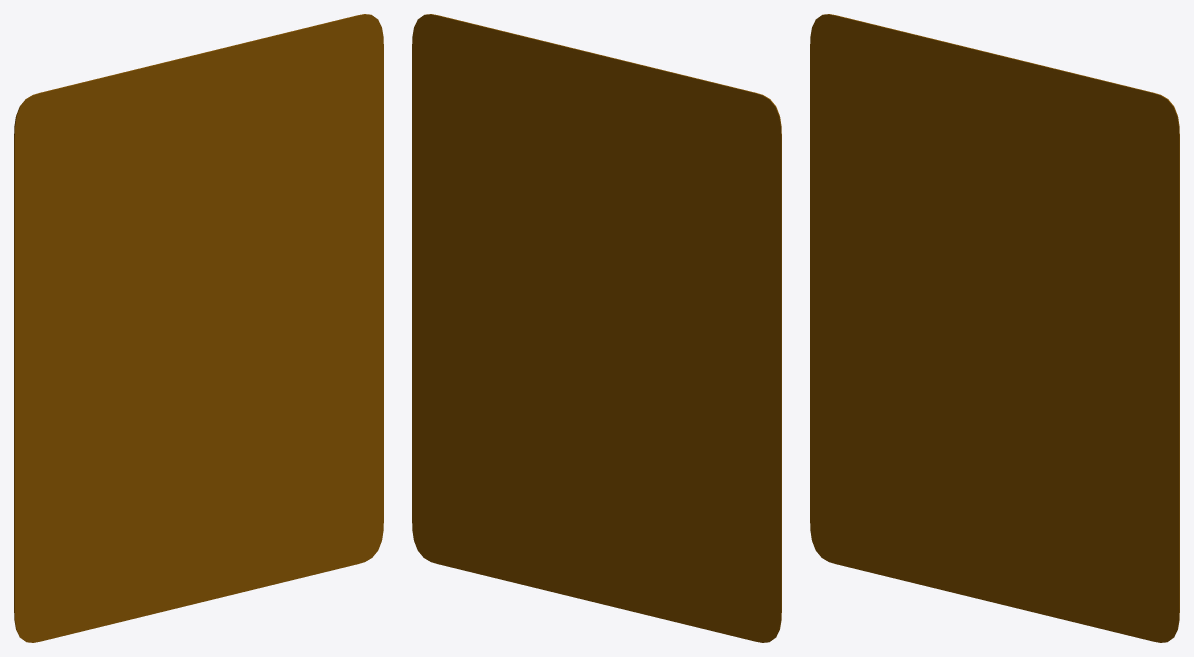
File: CartaBase.glb
3 views of the same model, side by side, from view 1: azimuth 30°, elevation 25°; view 2: azimuth 150°, elevation 25°; view 3: azimuth 330°, elevation 25° (orthographic).
Parts seen in each view (by area): view 1: Plano; view 2: Plano; view 3: Plano.
Part boxes in pixels (x1,y1,x2,y2): Plano: (14,14,383,642); Plano: (412,14,781,642); Plano: (810,14,1179,642).
Bounding box in the file's own units: 0.062 × 0.088 × 0.0002.
